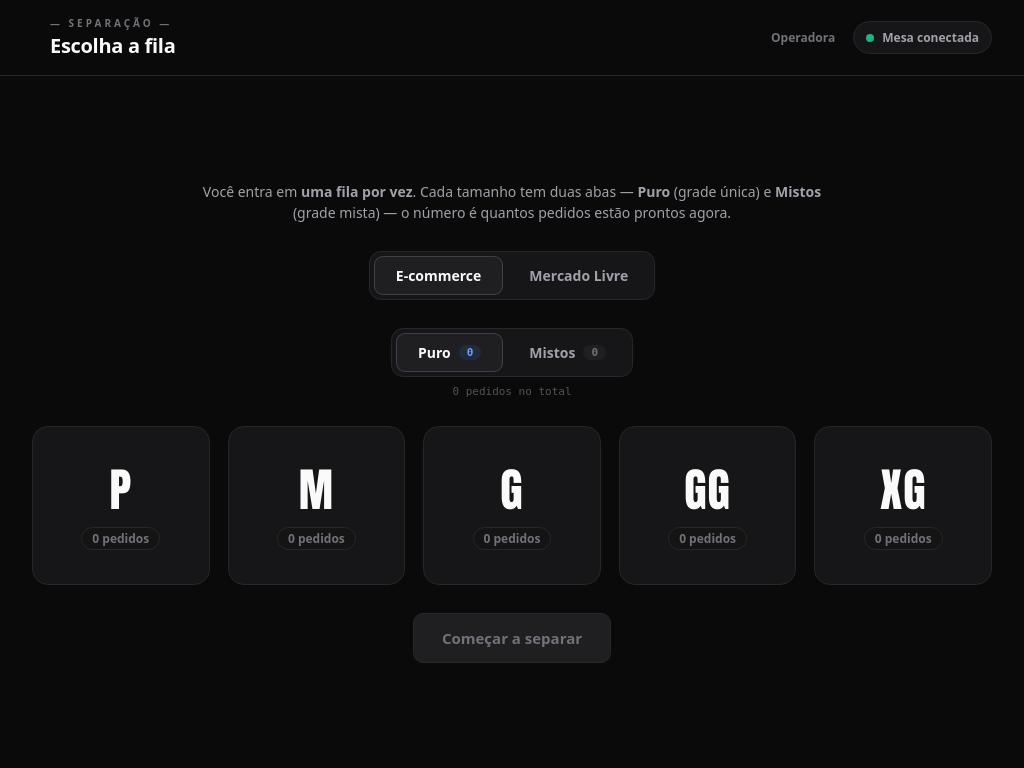
Separação — entrar na fila de mistos pela tela de escolha › tab Mistos → tamanho M → confirmar chega no runner sem derrubar a tela
Click the button "Mistos 0" at (568, 352), box [507,333,628,372]
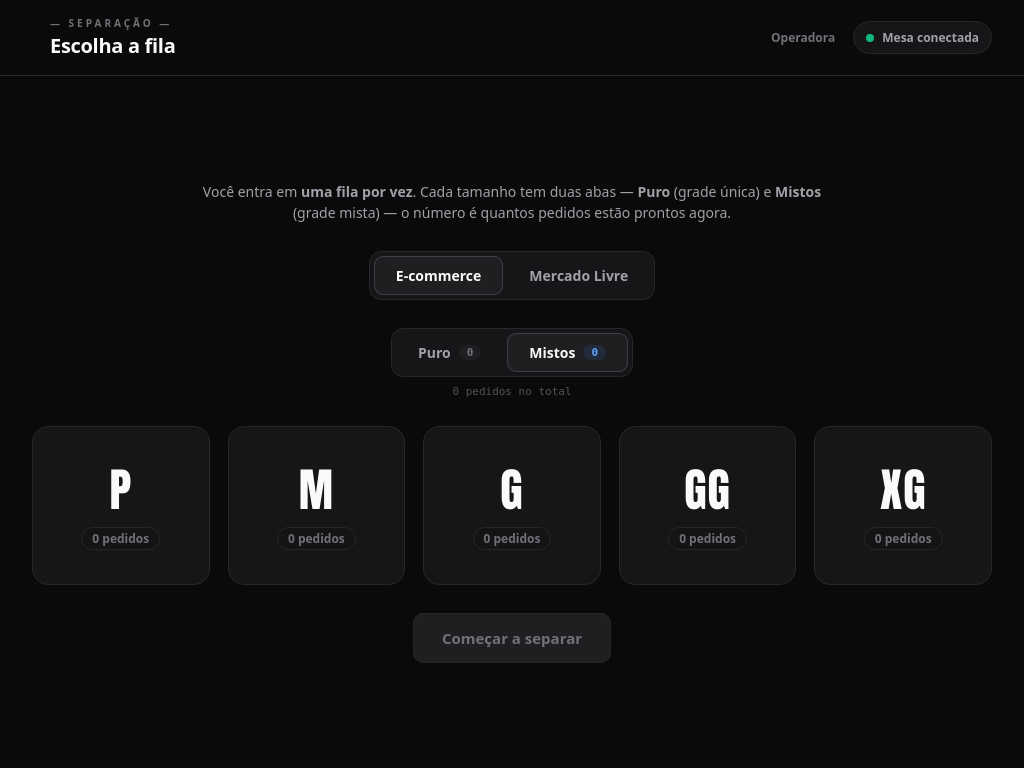
Click the button "M 0 pedidos" at (316, 506), box [228,426,405,585]
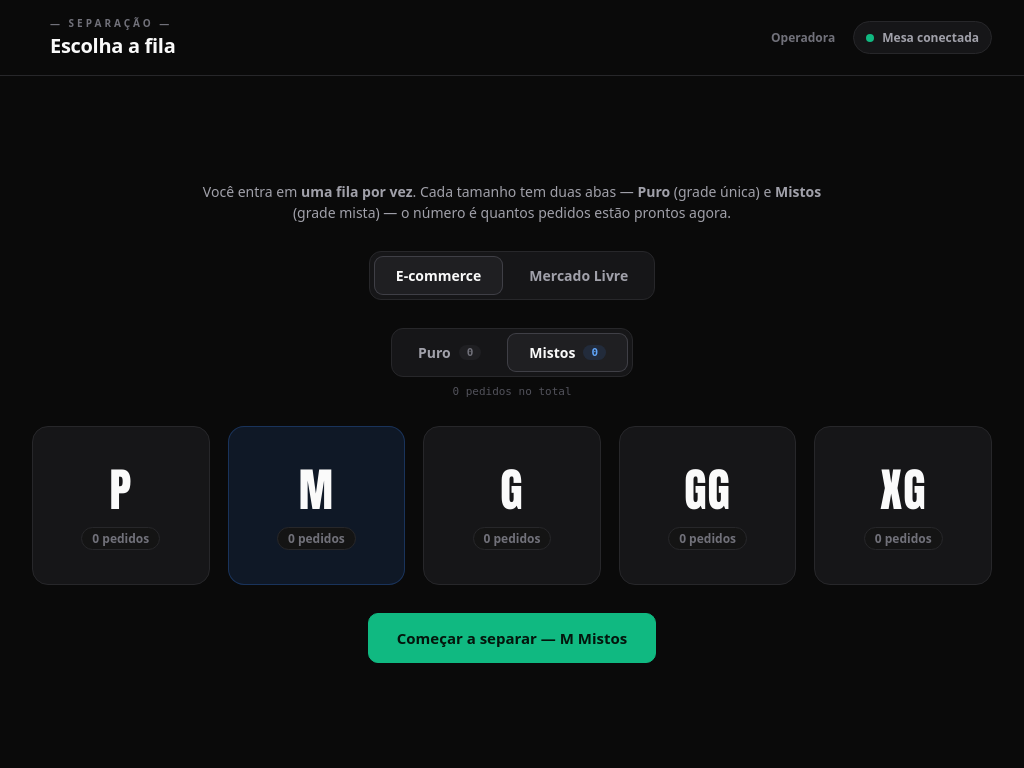
Expected: the button "Começar a separar — M Mistos" is shown
Click the button "Começar a separar — M Mistos" at (512, 638), box [368,613,656,663]
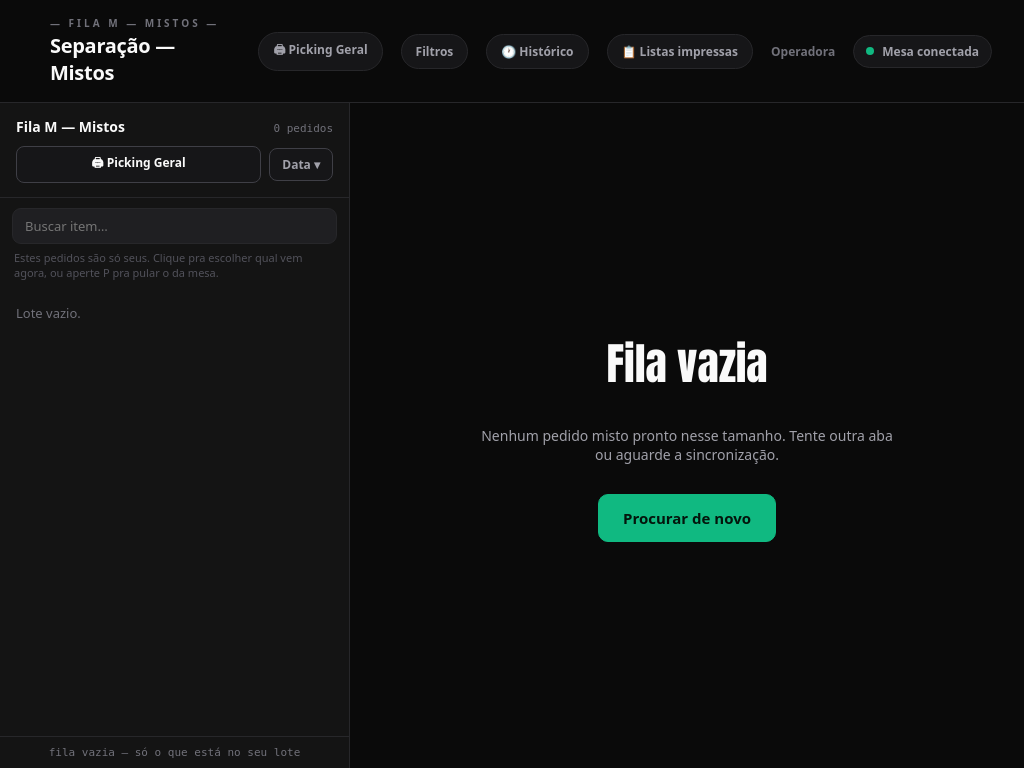
Expected: the text "― Fila M — Mistos ―" is shown, [50,16,240,30]
